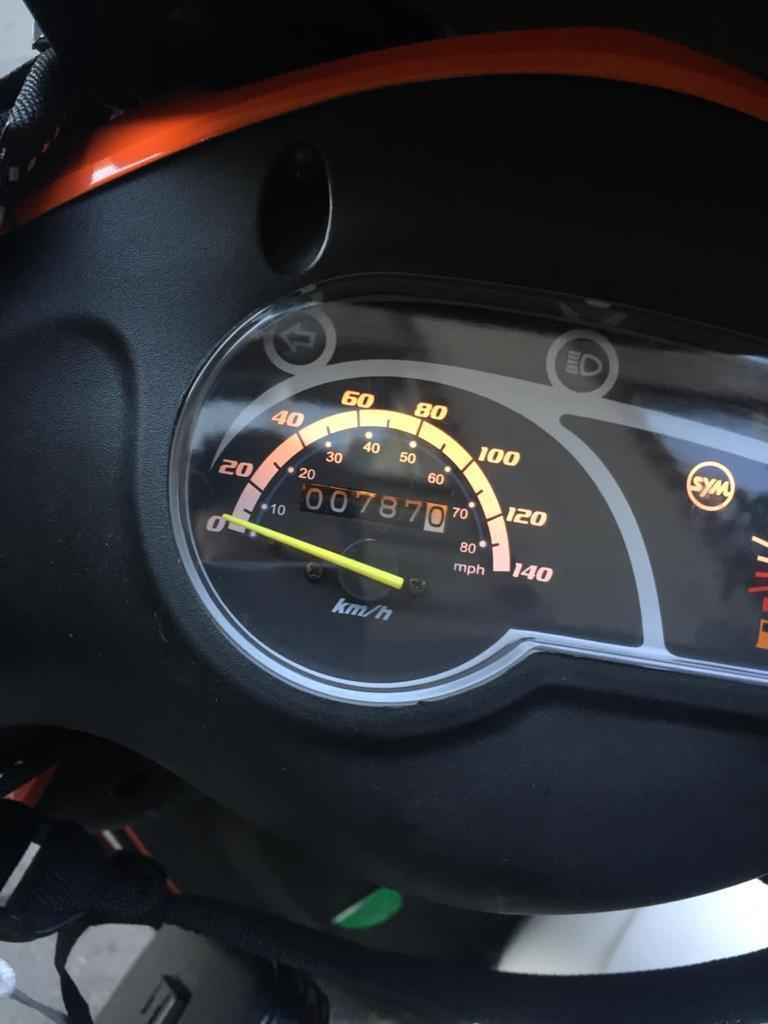0: (328, 488, 349, 514), (303, 486, 324, 511), (426, 504, 445, 528), (436, 476, 444, 485)
7: (353, 489, 377, 515), (402, 496, 422, 522)
8: (378, 493, 398, 519)
odometer: (293, 477, 453, 538)
